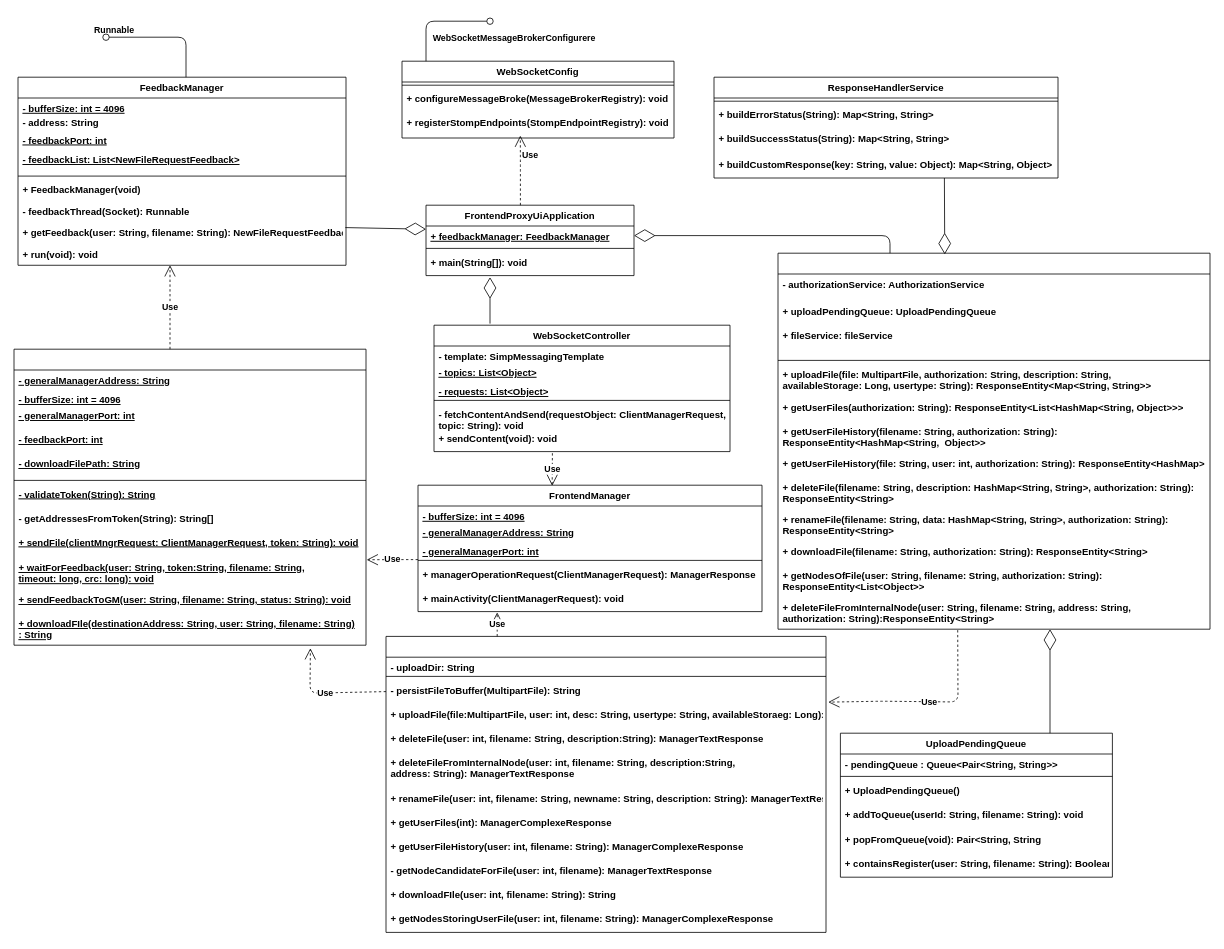
This 1224x949 diagram has some shape labels left out. The shapes that lost their labels are listed below. From the top down, each one's box as (x1, y1, x2, y2) in pixels, then its label:
(777, 252, 1210, 629): FileController
(13, 348, 366, 645): FileSender
(385, 636, 826, 932): FileService
